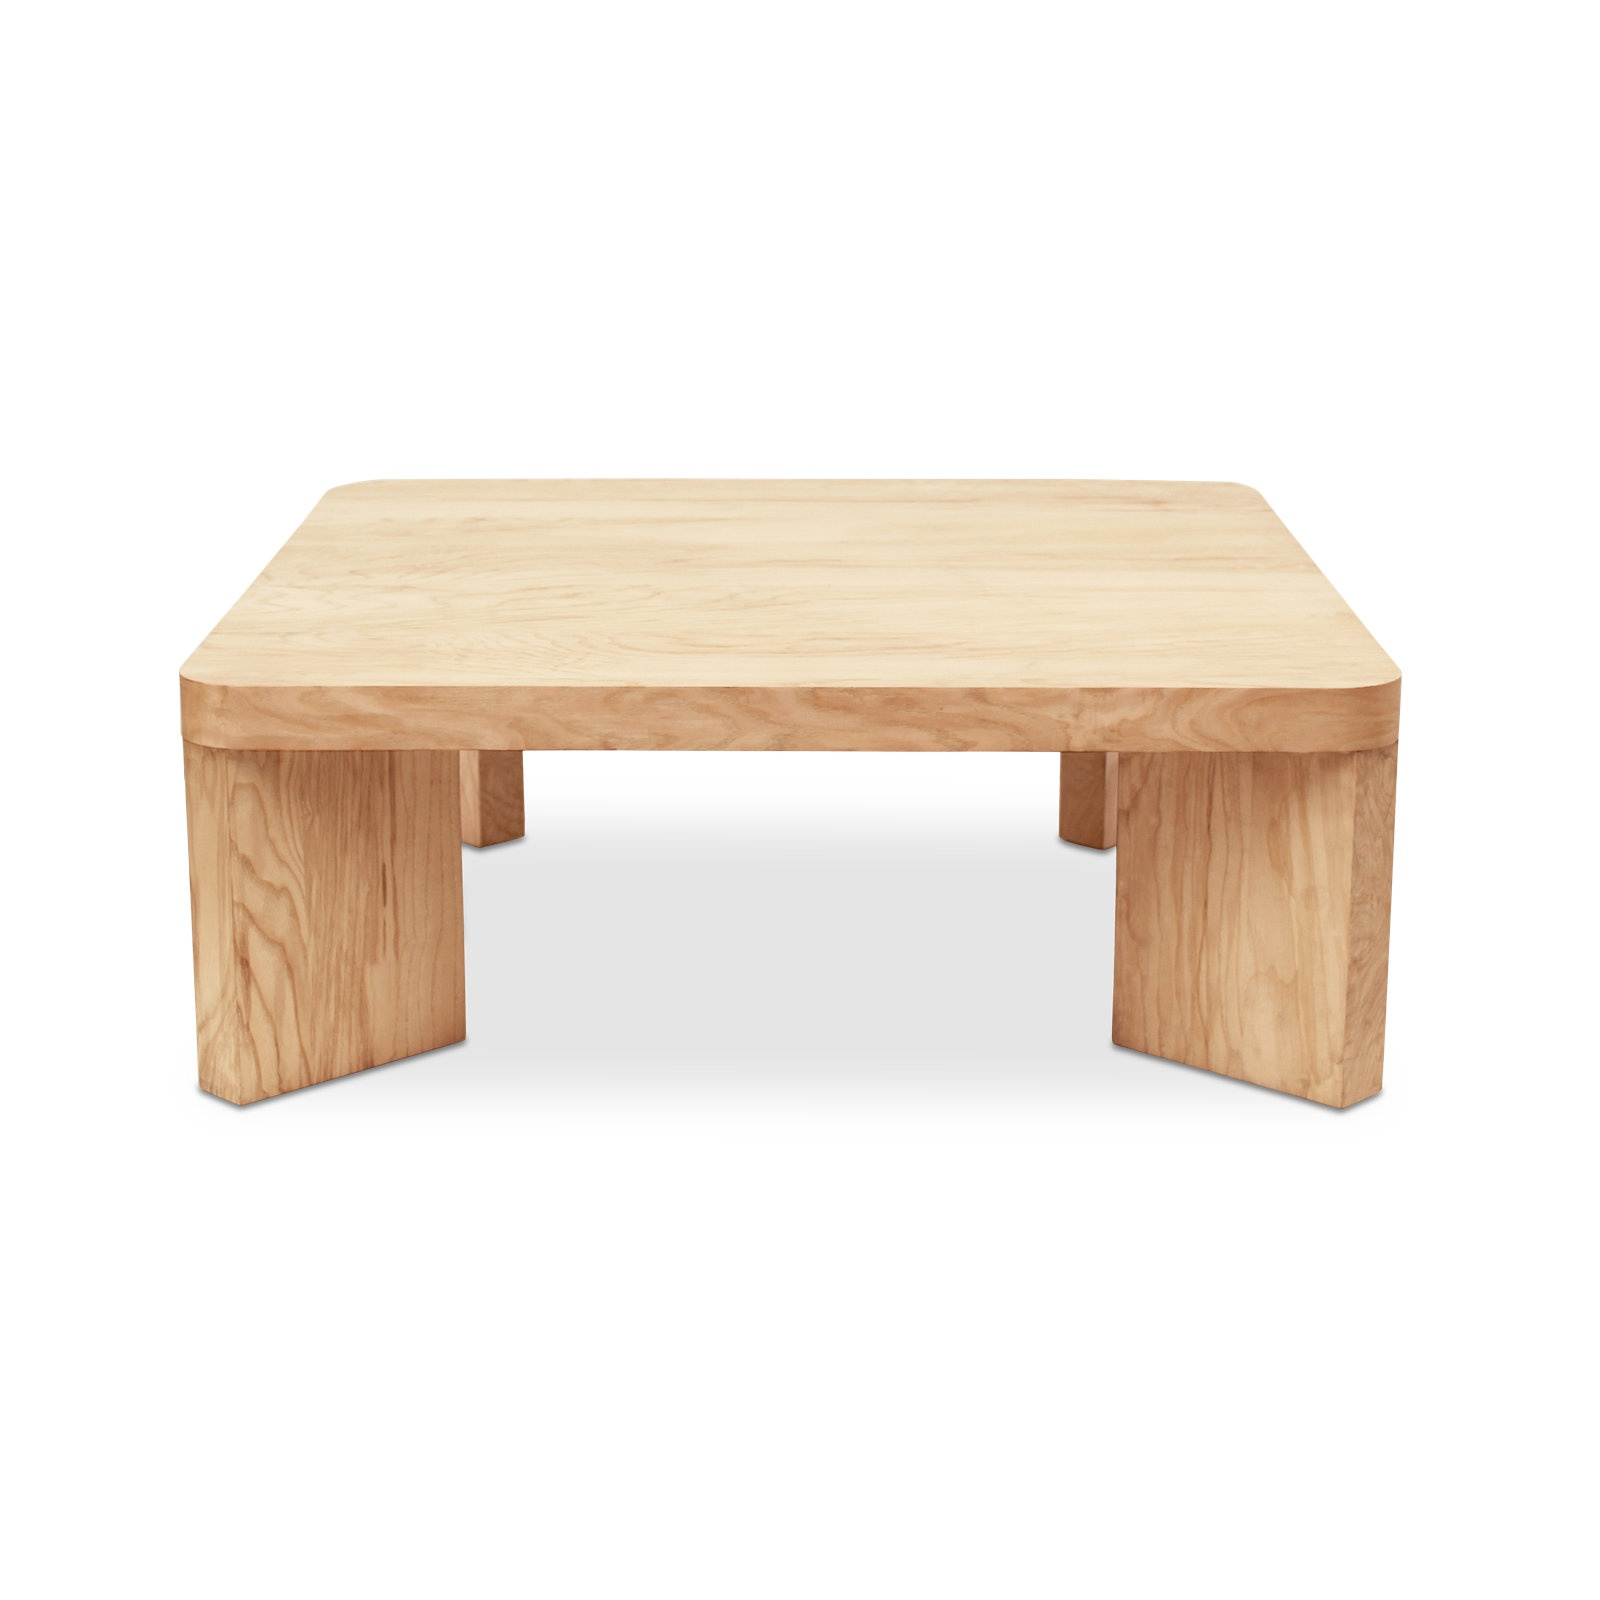obstacle: (182, 481, 1399, 1106)
